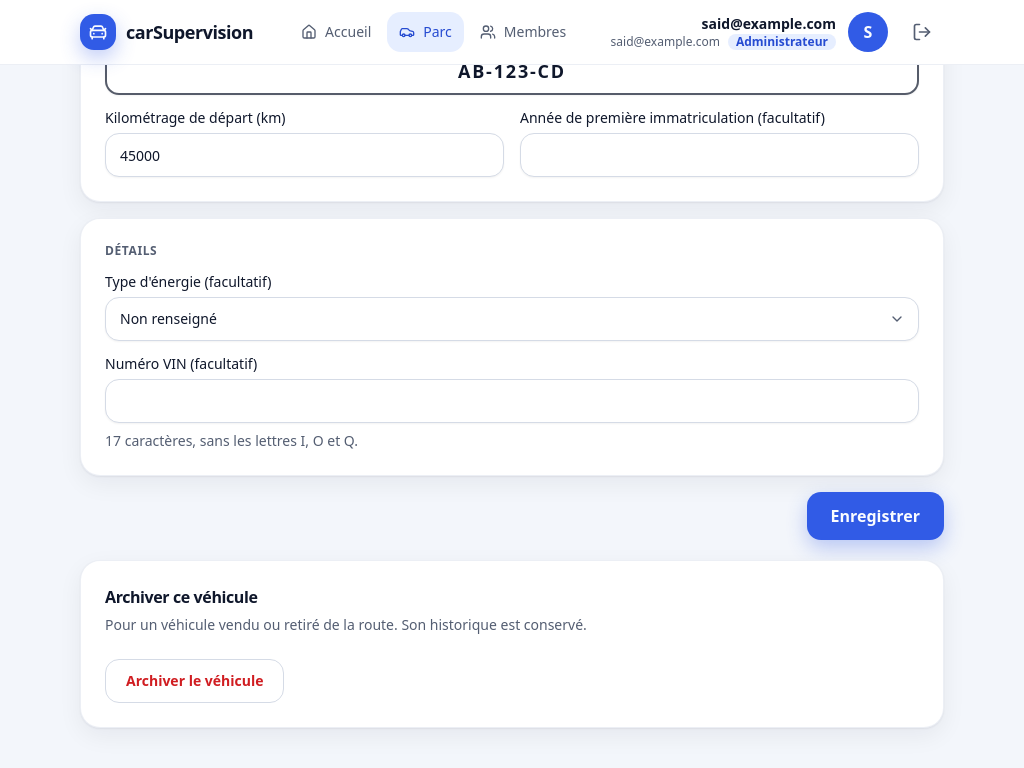
Test: parc de véhicules › confirme l’archivage dans un dialogue, annulable sans appel
(page scrolled)
Click the button "Archiver le véhicule".
click(195, 681)  # box x1=105 y1=659 x2=284 y2=703
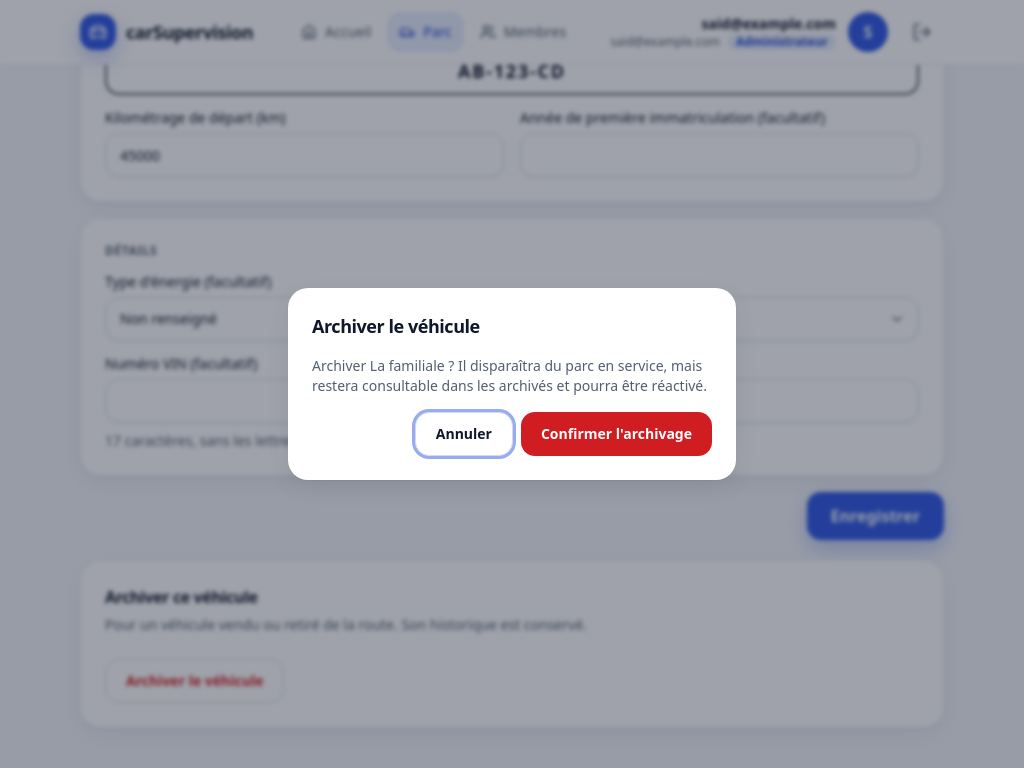
Now the button "Confirmer l'archivage" is shown, box x1=521 y1=412 x2=712 y2=456
Click the button "Annuler".
click(464, 434)  # box x1=415 y1=412 x2=513 y2=456
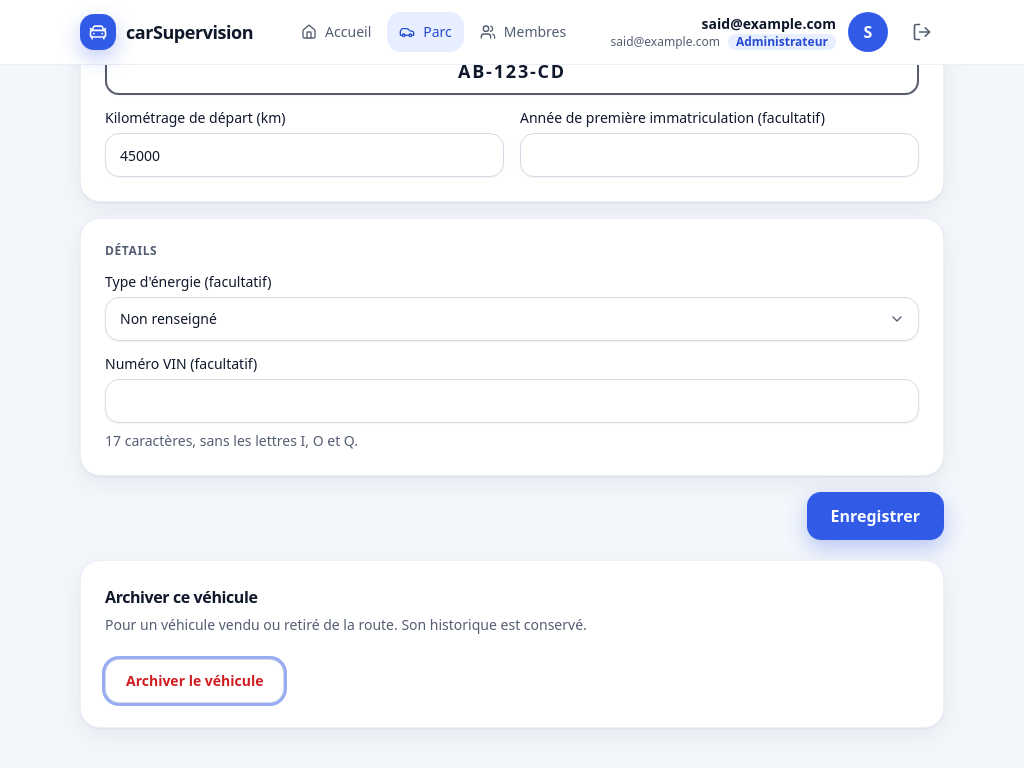
Now the dialog is gone
